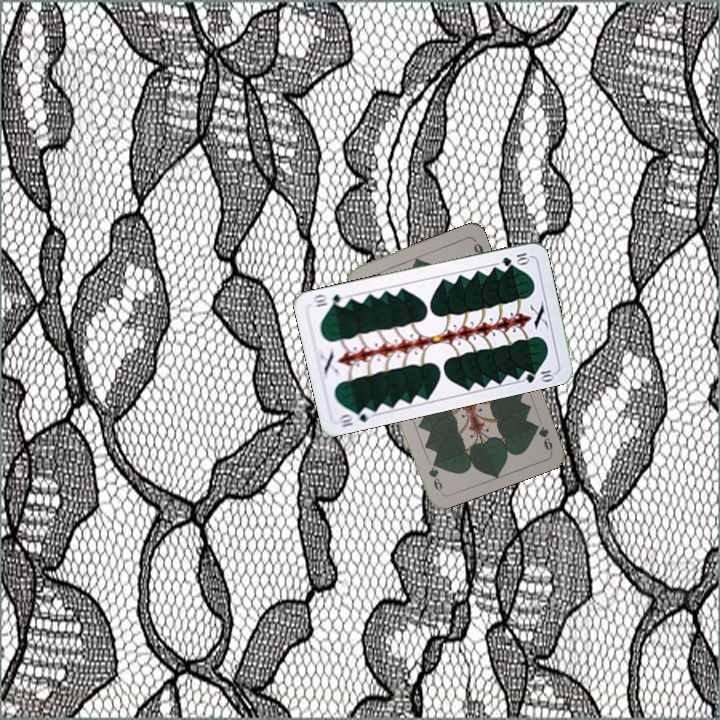G10: (335, 404, 375, 430), (498, 249, 532, 269)
G9: (530, 419, 555, 453)
